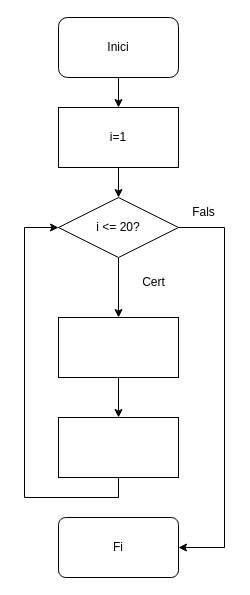
Image size: 250x595. Some labels were removed from this diagram. The centre of each missing label's shape, as x and y in pixels:
"i++" goes at (118,447).
"mostrar i" goes at (118,347).
